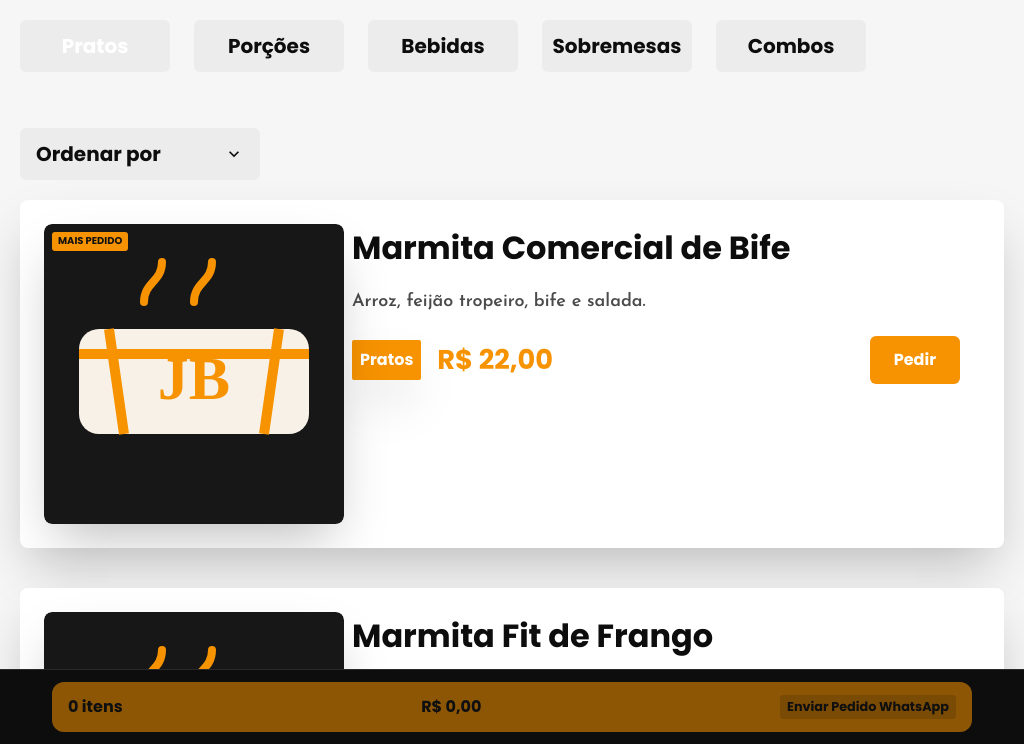
Test: Tela: Site público (cardápio) › clicar em Pedir atualiza a barra do carrinho com quantidade e total
(page scrolled)
Click the button "Pedir": (915, 360) [870,336,960,384]
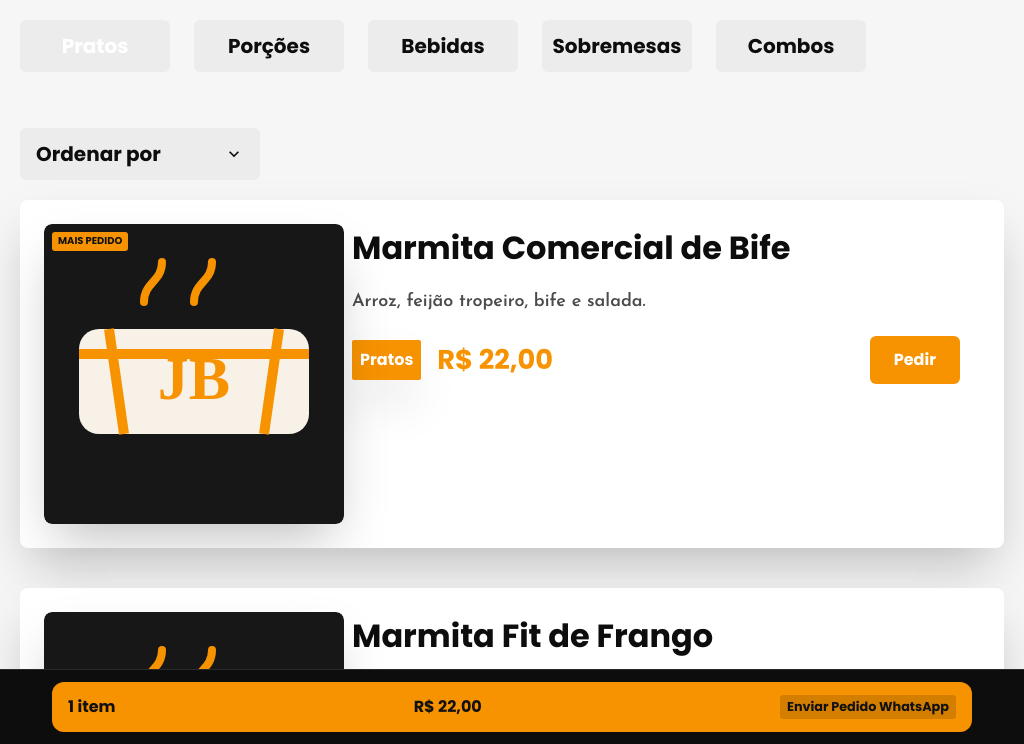
Check: the text "1 item" is shown, box [68,695,116,719]
Click the button "Pedir": (915, 360) [870,336,960,384]
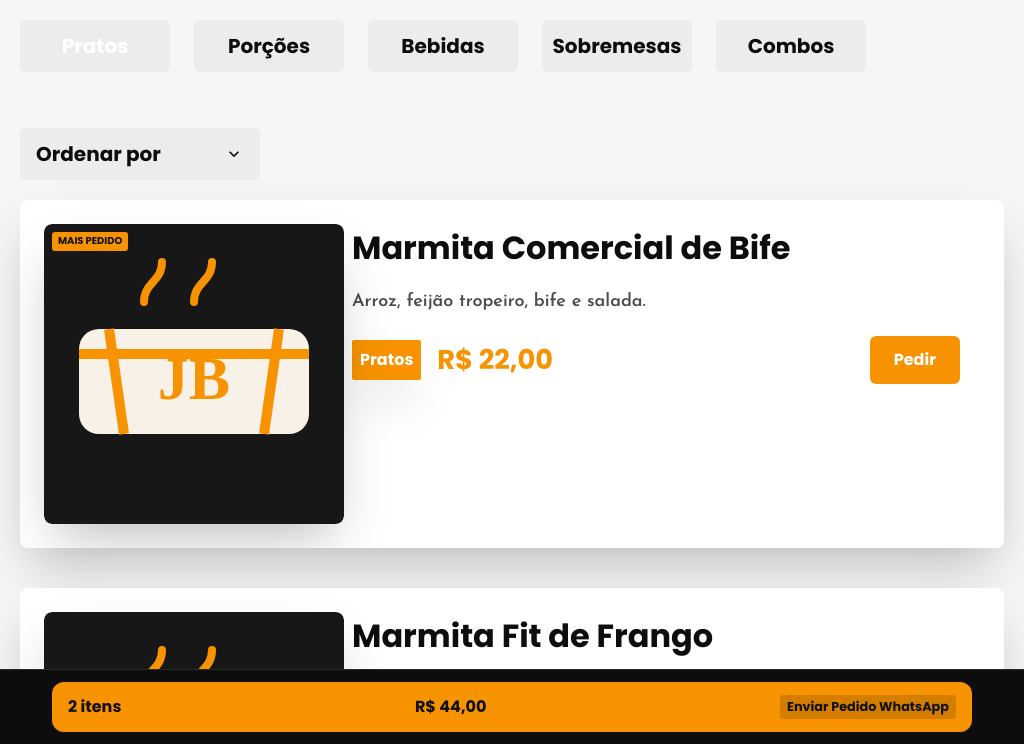
Check: the text "2 itens" is shown, box [68,695,121,719]
Check: the text "R$ 44,00" is shown, box [415,695,486,719]
